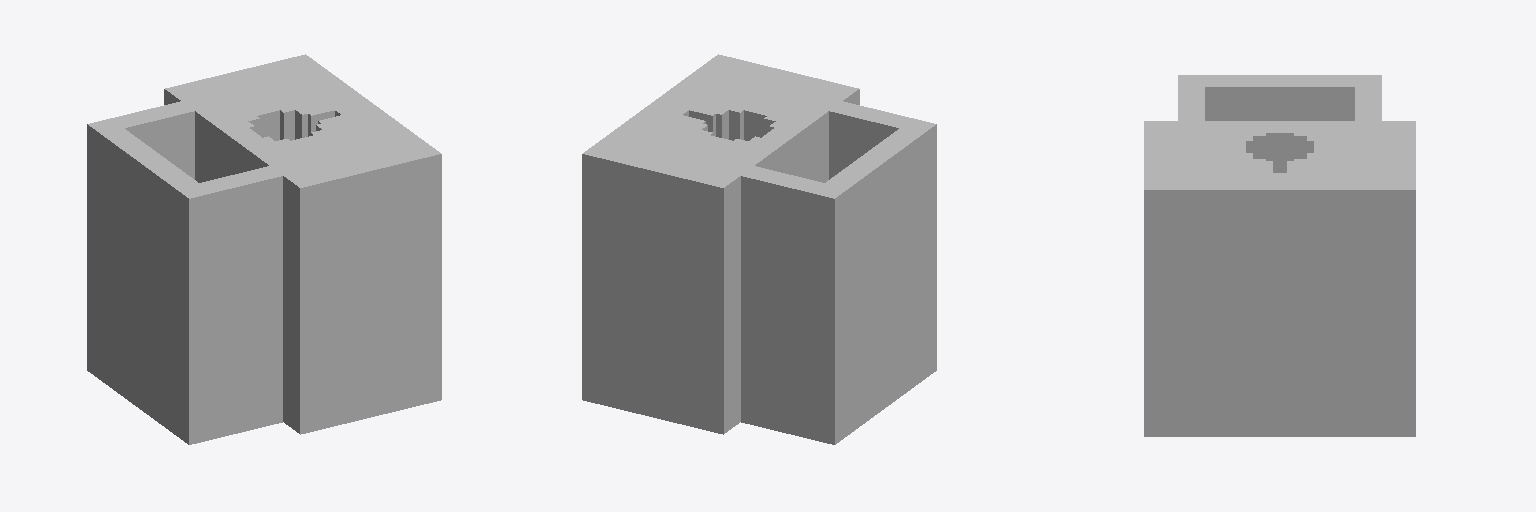
The model's file is lock_4.obj.
3 views of the same model, side by side, from view 1: azimuth 30°, elevation 25°; view 2: azimuth 150°, elevation 25°; view 3: azimuth 270°, elevation 25° (orthographic).
Visible parts, largest first — view 1: object 1; view 2: object 1; view 3: object 1.
Part boxes in pixels (bbox=[...]): object 1: bbox=[87, 54, 441, 444]; object 1: bbox=[582, 54, 936, 444]; object 1: bbox=[1144, 75, 1415, 436].
Bounding box in the file's own units: 4 × 4 × 4.